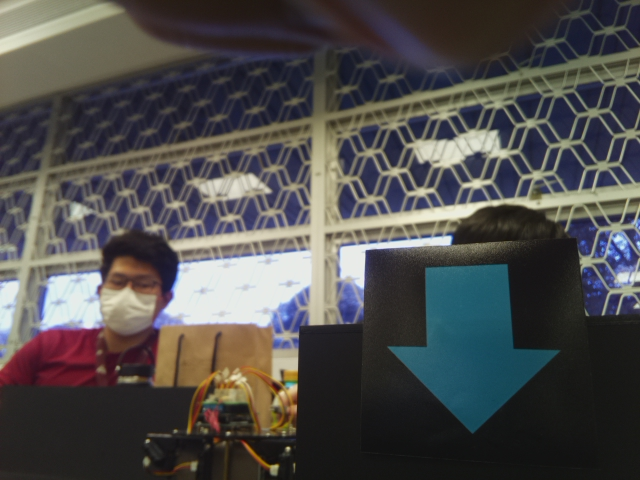down: (383, 260, 561, 448)
